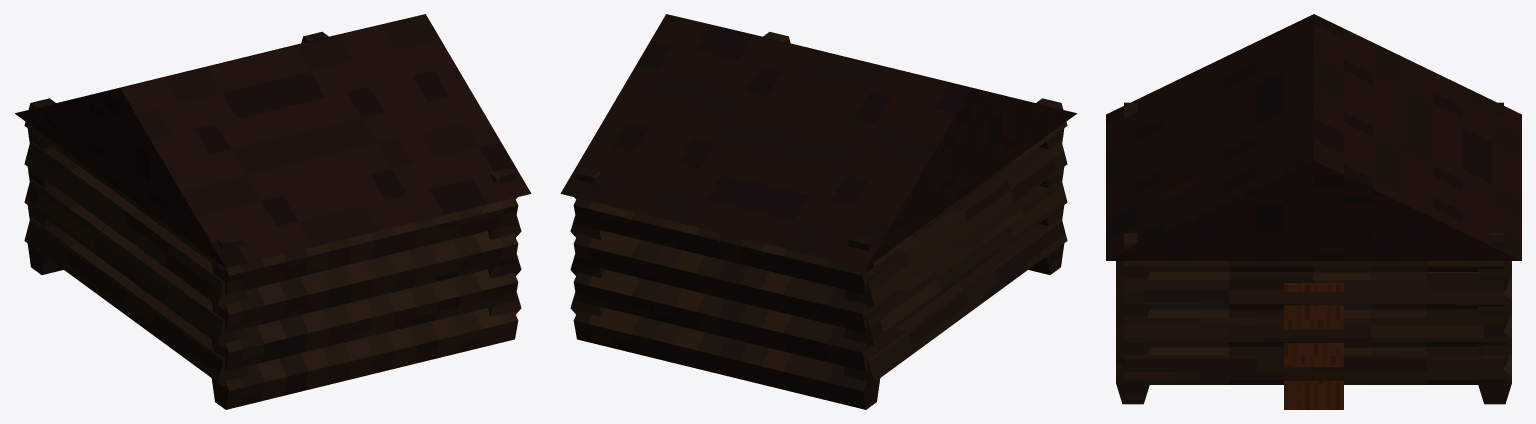
Rendered from cabana_troncos.glb.
3 renders of one model, left to right at view 1: azimuth 30°, elevation 25°; view 2: azimuth 150°, elevation 25°; view 3: azimuth 270°, elevation 25°, orthographic.
Visible parts, largest first — view 1: tejado, troncos; view 2: tejado, troncos; view 3: tejado, troncos, puerta.
Boxes of the visible parts, bbox=[...] form: tejado: bbox=[15, 14, 531, 268]; troncos: bbox=[24, 31, 521, 409]; tejado: bbox=[560, 14, 1076, 268]; troncos: bbox=[570, 31, 1067, 409]; tejado: bbox=[1106, 14, 1521, 260]; troncos: bbox=[1116, 102, 1511, 404]; puerta: bbox=[1284, 283, 1343, 409].
Bounding box in the file's own units: 5 × 4 × 6.
Materials: 1 (1 with a texture image).
